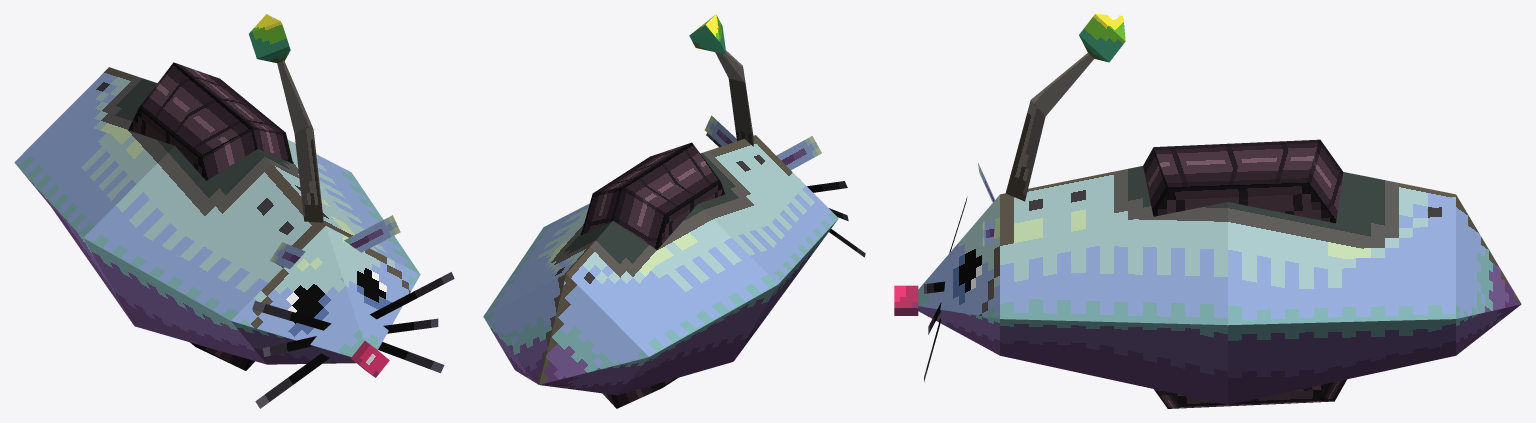
Rendered from rat.fbx.
3 views of the same model, side by side, from view 1: azimuth 30°, elevation 25°; view 2: azimuth 150°, elevation 25°; view 3: azimuth 270°, elevation 25° (orthographic). The views are drawn at different scales.
Parts seen in each view (by area): view 1: Sphere, Cylinder.001, Cylinder, Sphere.001, Plane.006, Plane.004, Plane.003, Cube, Plane.001, Plane.002, Plane.008, Plane.005 (+1 smaller); view 2: Sphere, Cylinder.001, Cylinder, Sphere.001, Plane.008, Plane.006; view 3: Sphere, Cylinder.001, Cylinder, Sphere.001, Cube.
Boxes of the visible parts, x1,y1,x2,y2 form: Sphere: [14, 67, 420, 364]; Cylinder.001: [128, 62, 292, 370]; Cylinder: [277, 60, 323, 222]; Sphere.001: [249, 14, 290, 63]; Plane.006: [344, 215, 400, 252]; Plane.004: [255, 353, 329, 408]; Plane.003: [252, 301, 331, 330]; Cube: [351, 341, 389, 377]; Plane.001: [370, 272, 454, 319]; Plane.002: [378, 342, 444, 373]; Plane.008: [270, 242, 305, 268]; Plane.005: [263, 336, 316, 356]; Sphere: [483, 135, 838, 395]; Cylinder.001: [581, 142, 725, 408]; Cylinder: [715, 50, 753, 146]; Sphere.001: [689, 14, 726, 54]; Plane.008: [776, 136, 821, 169]; Plane.006: [704, 115, 736, 145]; Sphere: [918, 166, 1521, 404]; Cylinder.001: [1143, 139, 1346, 408]; Cylinder: [1006, 53, 1094, 201]; Sphere.001: [1079, 14, 1125, 62]; Cube: [894, 285, 918, 315].
Size of the model in its own units: 190 by 254 by 366.
